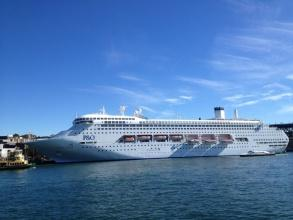youlun: (18, 102, 291, 162)
